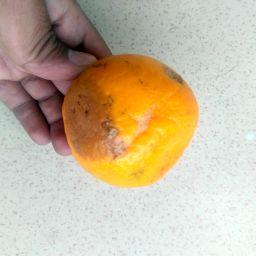Unripe: (61, 54, 199, 187)
